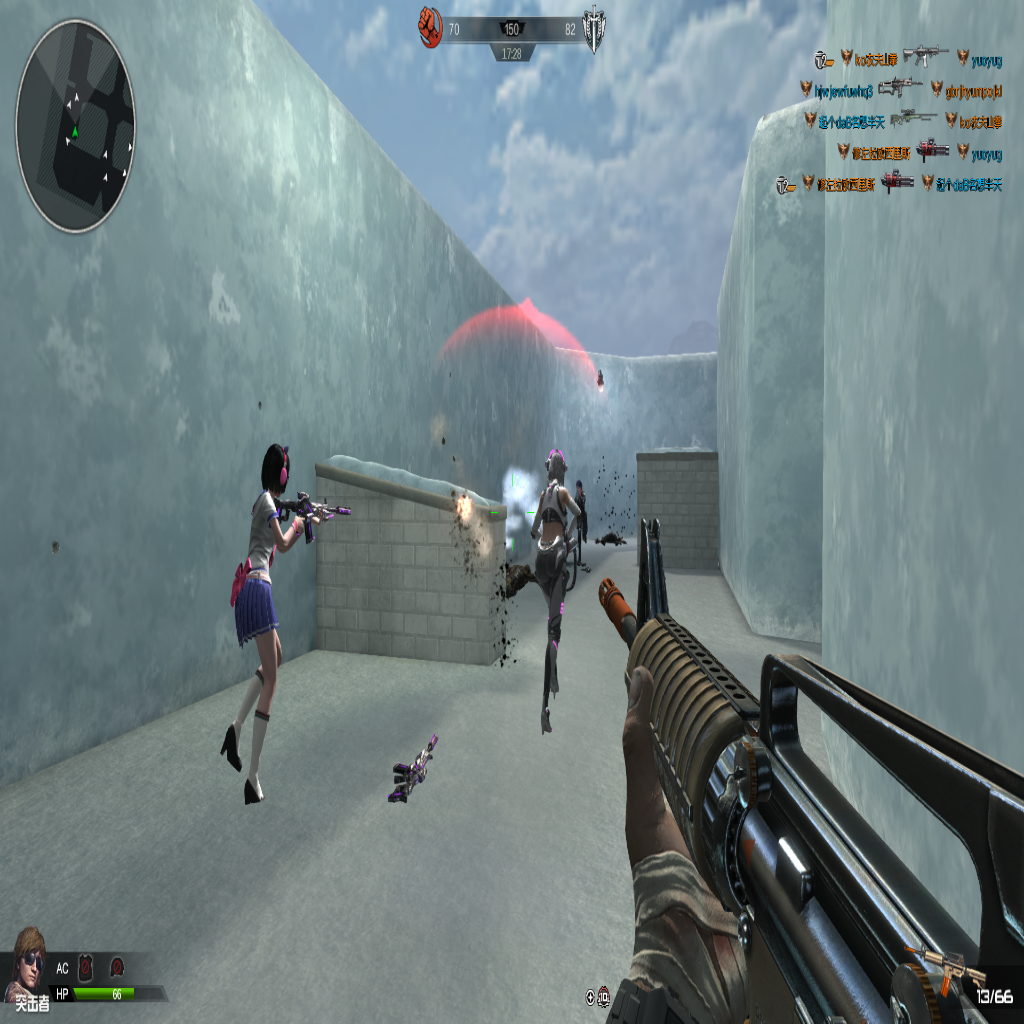ct: (574, 478, 587, 560)
tt: (225, 455, 322, 804), (527, 447, 577, 722)
